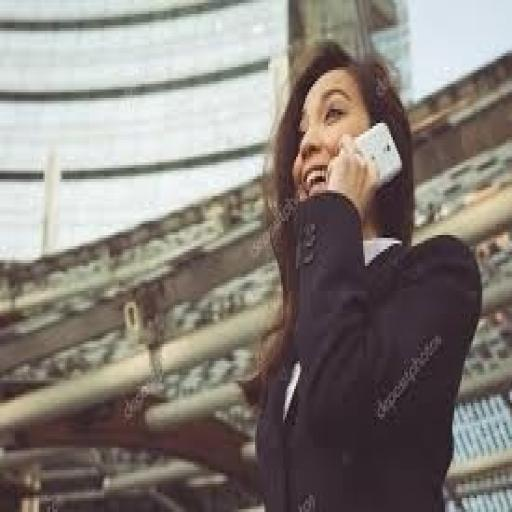calling: (250, 36, 484, 510)
